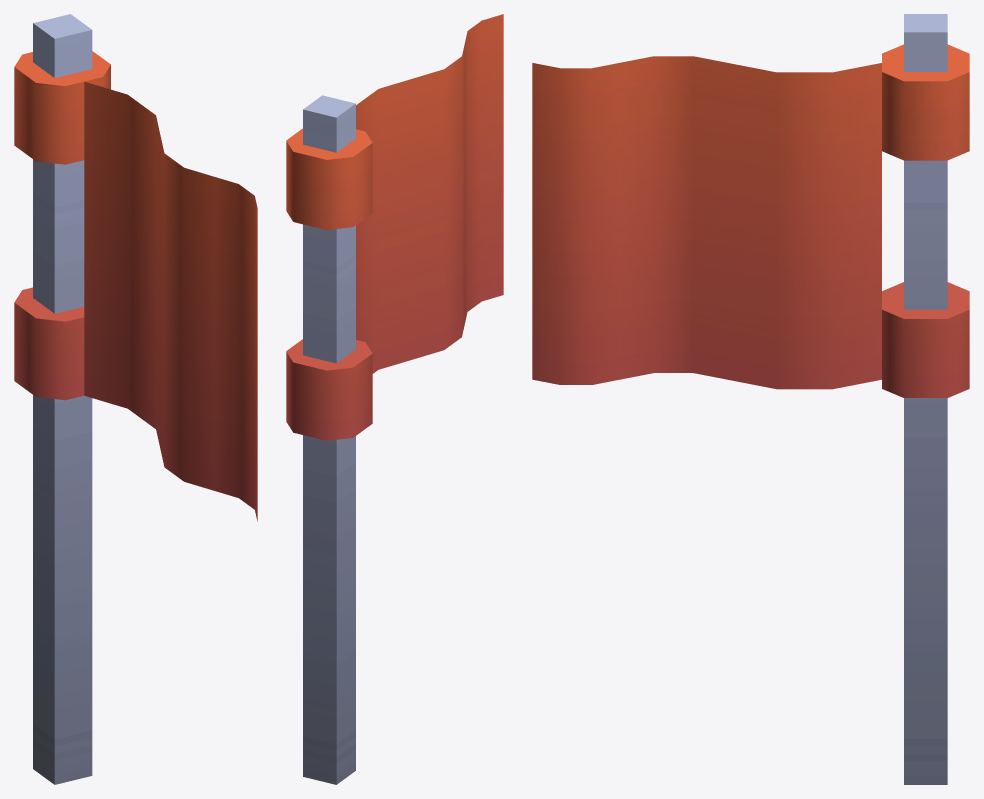
File: flag.glb
The picture shows the model from 3 angles, left to right: view 1: azimuth 30°, elevation 25°; view 2: azimuth 150°, elevation 25°; view 3: azimuth 270°, elevation 25°; orthographic projection. The views are drawn at different scales.
Parts seen in each view (by area): view 1: flag; view 2: flag; view 3: flag.
Part boxes in pixels (x1,y1,x2,y2): flag: [14, 14, 257, 784]; flag: [286, 14, 503, 784]; flag: [532, 14, 969, 784].
Bounding box in the file's own units: 0.1 × 0.95 × 0.5.
1 material, 1 textured.
